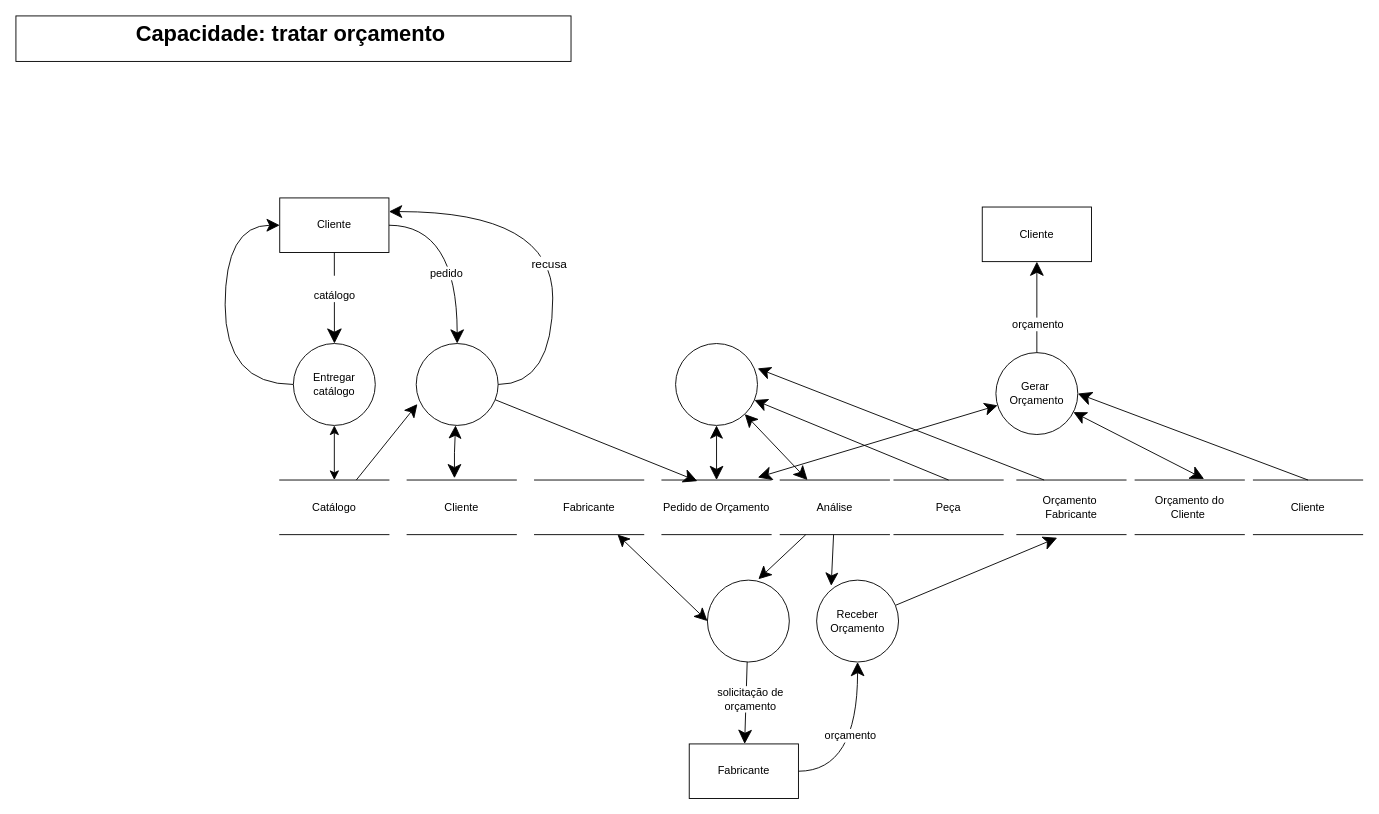
Image size: 1379x814. Some labels were removed from this diagram. The shapes that lost their labels are listed below. From the top down, each one's box as (x1, y1, x2, y2) in pixels, then its label:
(415, 343, 498, 425): Receber Pedido
(675, 343, 757, 425): Analisar Pedido
(707, 579, 789, 662): Solicitar Cotação de Formas
